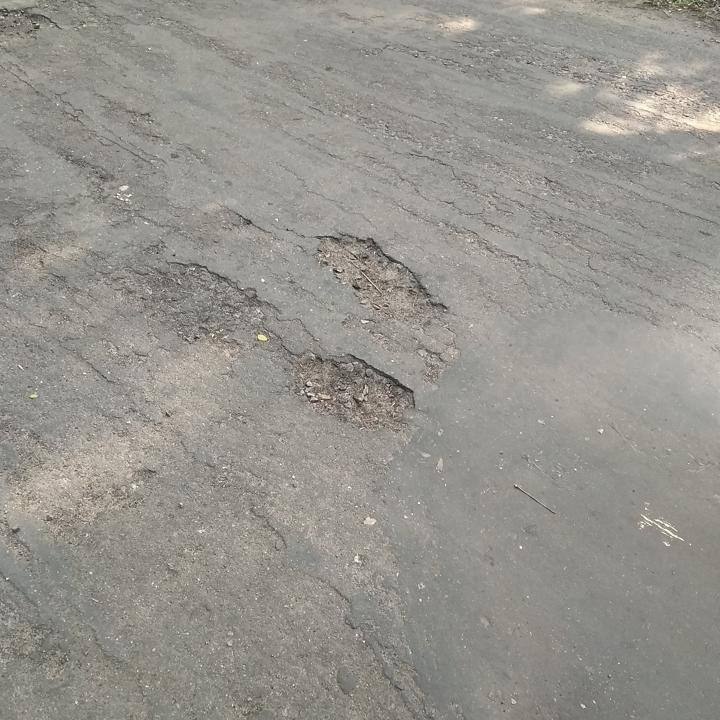pothole: (309, 225, 454, 328), (131, 256, 288, 349), (290, 346, 422, 436)
